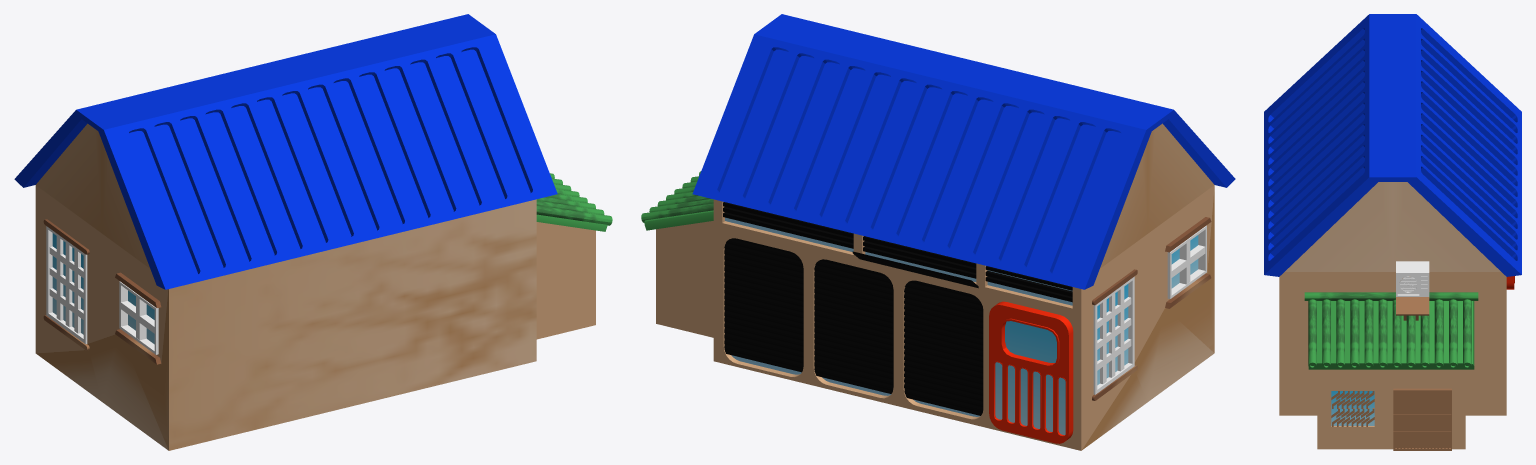
3 views of the same model, side by side, from view 1: azimuth 30°, elevation 25°; view 2: azimuth 150°, elevation 25°; view 3: azimuth 270°, elevation 25° (orthographic). The views are drawn at different scales.
Parts seen in each view (by area): view 1: Cube.066; view 2: Cube.066, Cube.068; view 3: Cube.066.
Part boxes in pixels (x1=…): Cube.066: x1=14, y1=14, x2=612, y2=450; Cube.066: x1=641, y1=14, x2=1235, y2=450; Cube.068: x1=989, y1=301, x2=1073, y2=443; Cube.066: x1=1264, y1=14, x2=1521, y2=450.
Bounding box in the file's own units: 7.59 × 4.37 × 4.2.
Materials: 8 (4 with a texture image).
